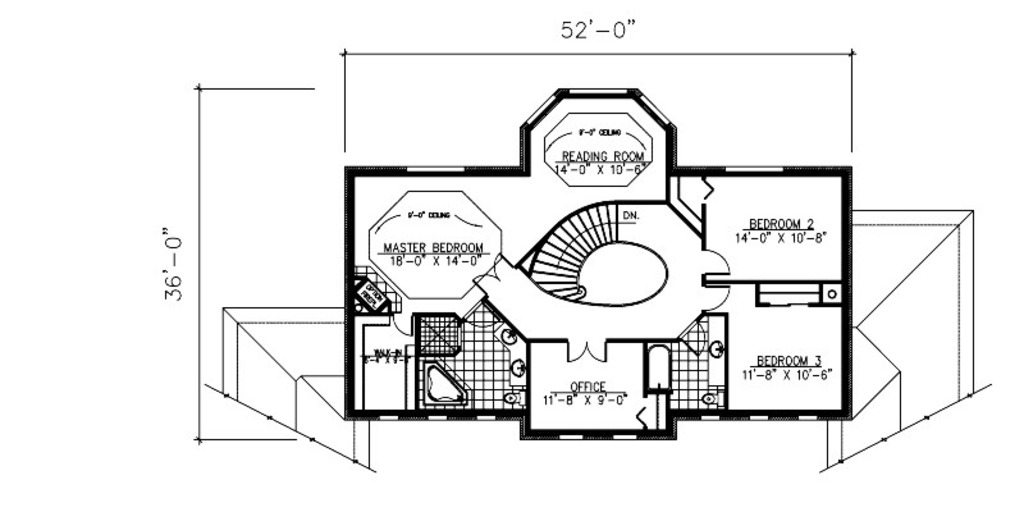door: (468, 254, 517, 300), (562, 336, 611, 364), (700, 243, 733, 278), (701, 281, 734, 311), (387, 314, 411, 339)
large_sink: (698, 383, 725, 414), (496, 392, 533, 410)
small_sink: (494, 324, 530, 385), (705, 314, 731, 384)
stairs: (527, 202, 623, 306)
tub: (421, 364, 467, 409), (640, 339, 672, 397)
window: (556, 81, 642, 102), (715, 162, 787, 181), (403, 165, 473, 183)
